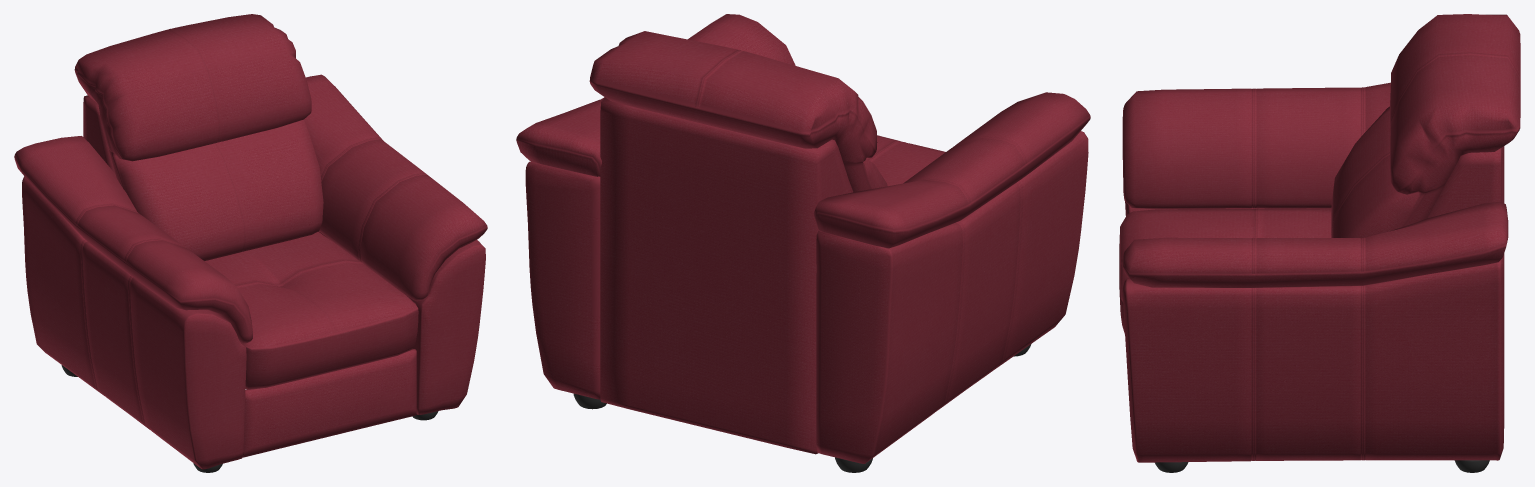
The model's file is 3dmodals16703185794308.fbx.
3 views of the same model, side by side, from view 1: azimuth 30°, elevation 25°; view 2: azimuth 150°, elevation 25°; view 3: azimuth 270°, elevation 25° (orthographic). The views are drawn at different scales.
Parts seen in each view (by area): view 1: dublin_chair; view 2: dublin_chair; view 3: dublin_chair.
Boxes of the visible parts, x1=… form: dublin_chair: x1=14, y1=14, x2=487, y2=472; dublin_chair: x1=516, y1=14, x2=1090, y2=472; dublin_chair: x1=1119, y1=14, x2=1520, y2=472.
Bounding box in the file's own units: 1.08 × 1.01 × 1.04.
Materials: 2 (1 with a texture image).
